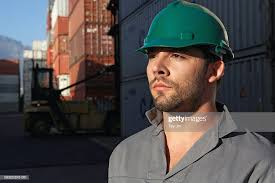Person_wearing_helmet: (135, 3, 235, 70)
